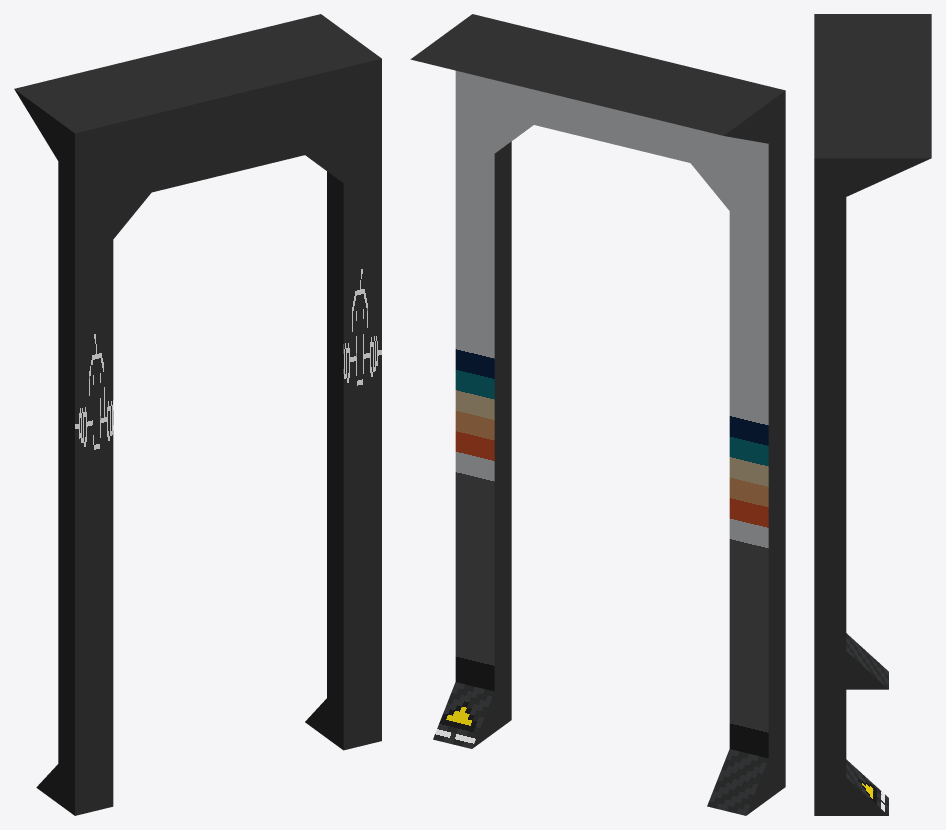
The model's file is CalShipDoorFrameSmall.gltf.
The picture shows the model from 3 angles, left to right: view 1: azimuth 30°, elevation 25°; view 2: azimuth 150°, elevation 25°; view 3: azimuth 270°, elevation 25°; orthographic projection. The views are drawn at different scales.
Parts seen in each view (by area): view 1: mesh; view 2: mesh; view 3: mesh.
Part boxes in pixels (x1,y1,x2,y2): mesh: [14, 14, 381, 815]; mesh: [410, 14, 785, 815]; mesh: [814, 14, 931, 815].
Bounding box in the file's own units: 1 × 2.12 × 0.3438.
Materials: 1 (1 with a texture image).
